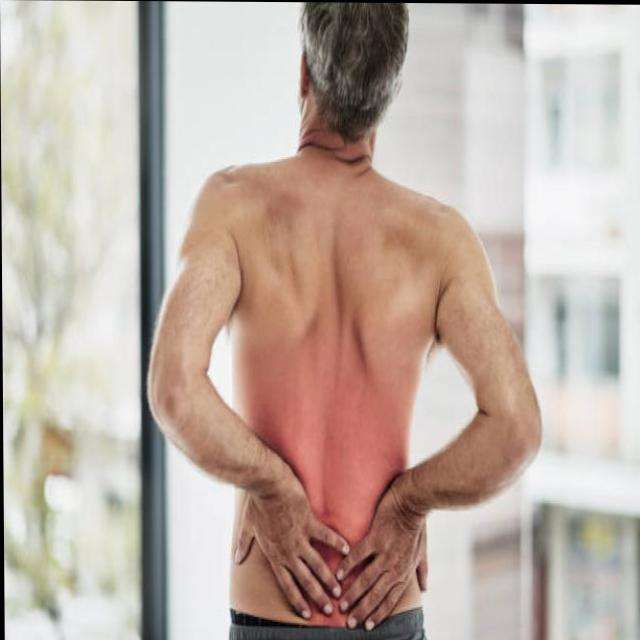no helmet: (295, 2, 418, 165)
